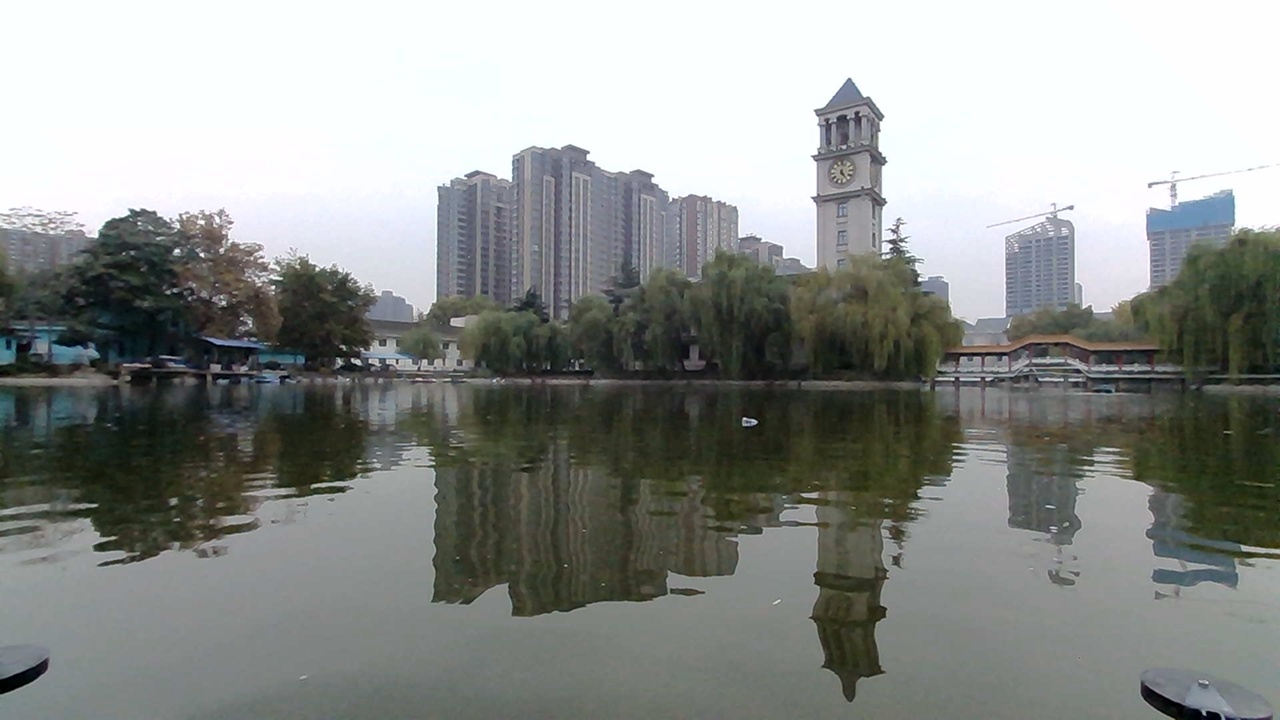bottle: (735, 406, 774, 436)
